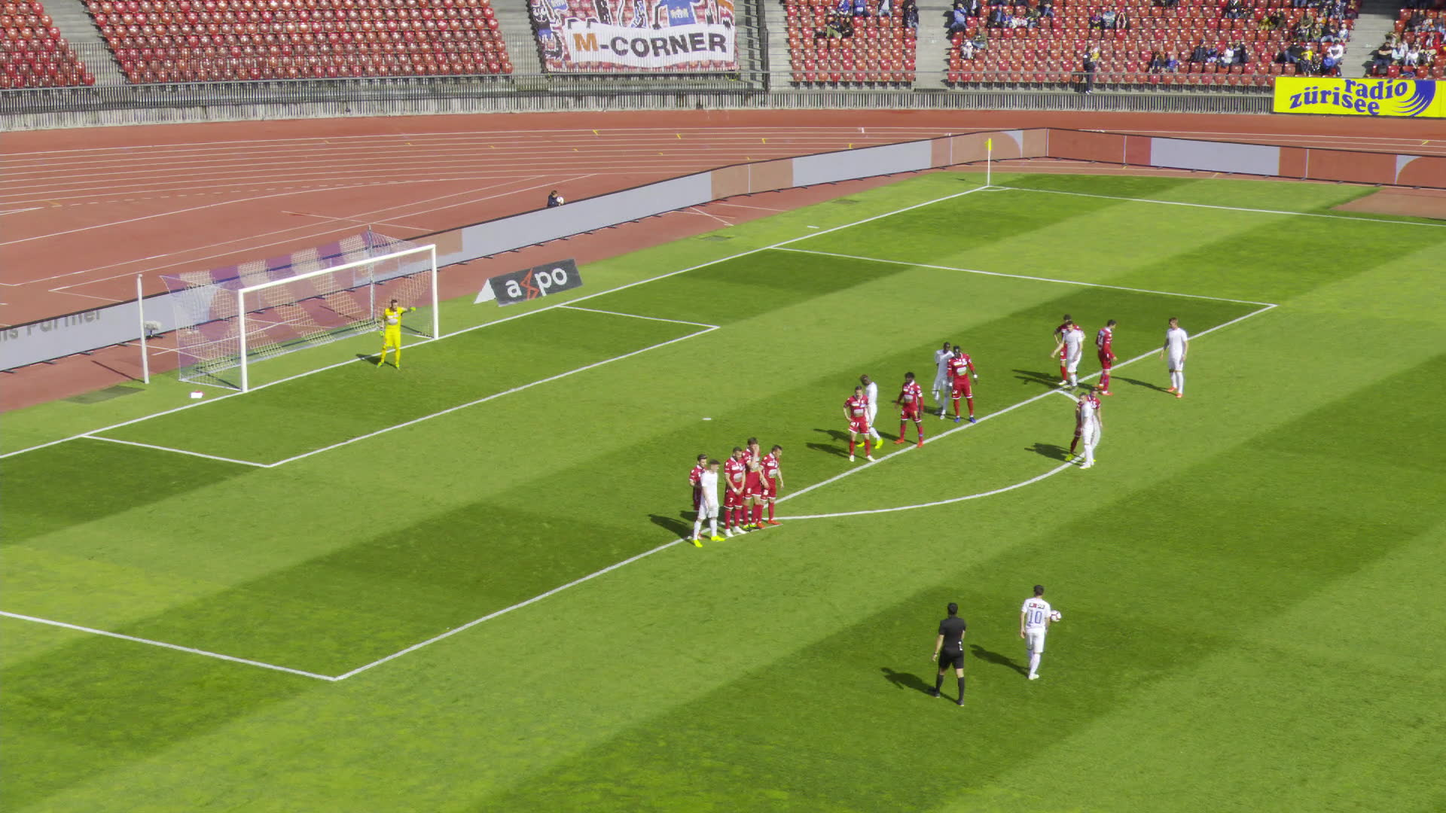ball: (1051, 611, 1060, 621)
player: (1020, 583, 1051, 681), (1061, 388, 1099, 461), (374, 298, 413, 369), (694, 459, 725, 548), (840, 386, 874, 462), (892, 370, 924, 446), (755, 444, 783, 528), (1159, 317, 1188, 397), (946, 345, 975, 425), (855, 373, 883, 449), (1091, 320, 1117, 395), (928, 342, 953, 419), (1057, 321, 1084, 391), (721, 446, 742, 536), (741, 438, 761, 531), (1052, 315, 1078, 386), (688, 454, 708, 540), (1076, 393, 1094, 470)
referee: (930, 601, 966, 705)
